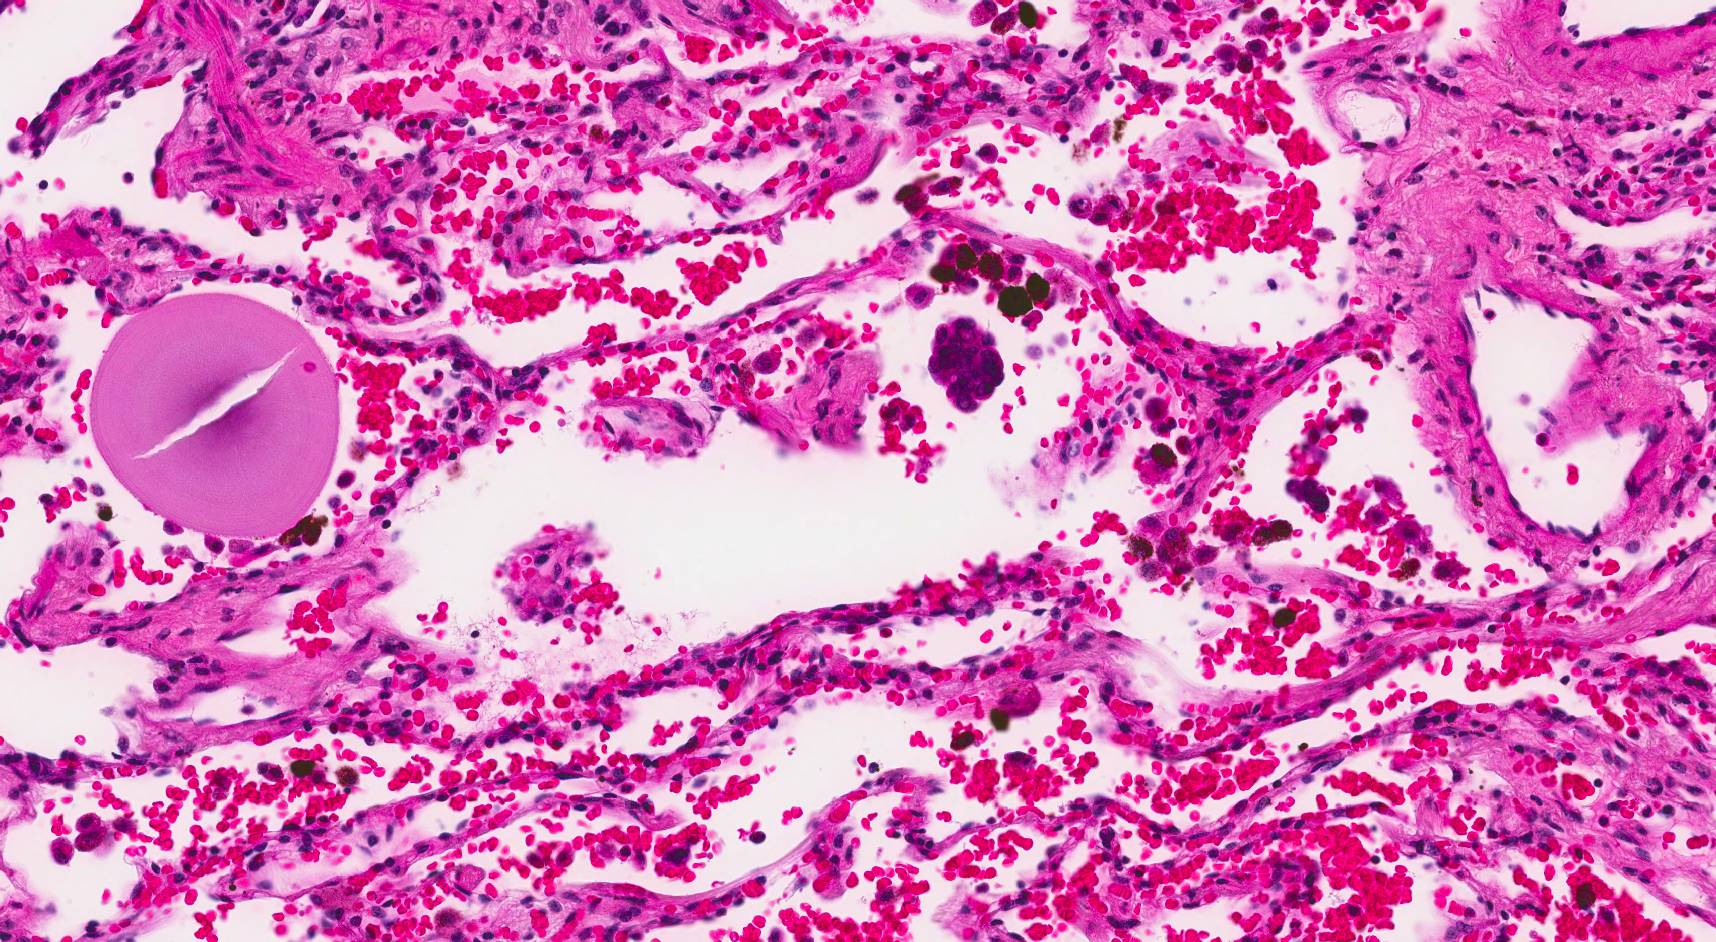stas: (925, 314, 1013, 415)
